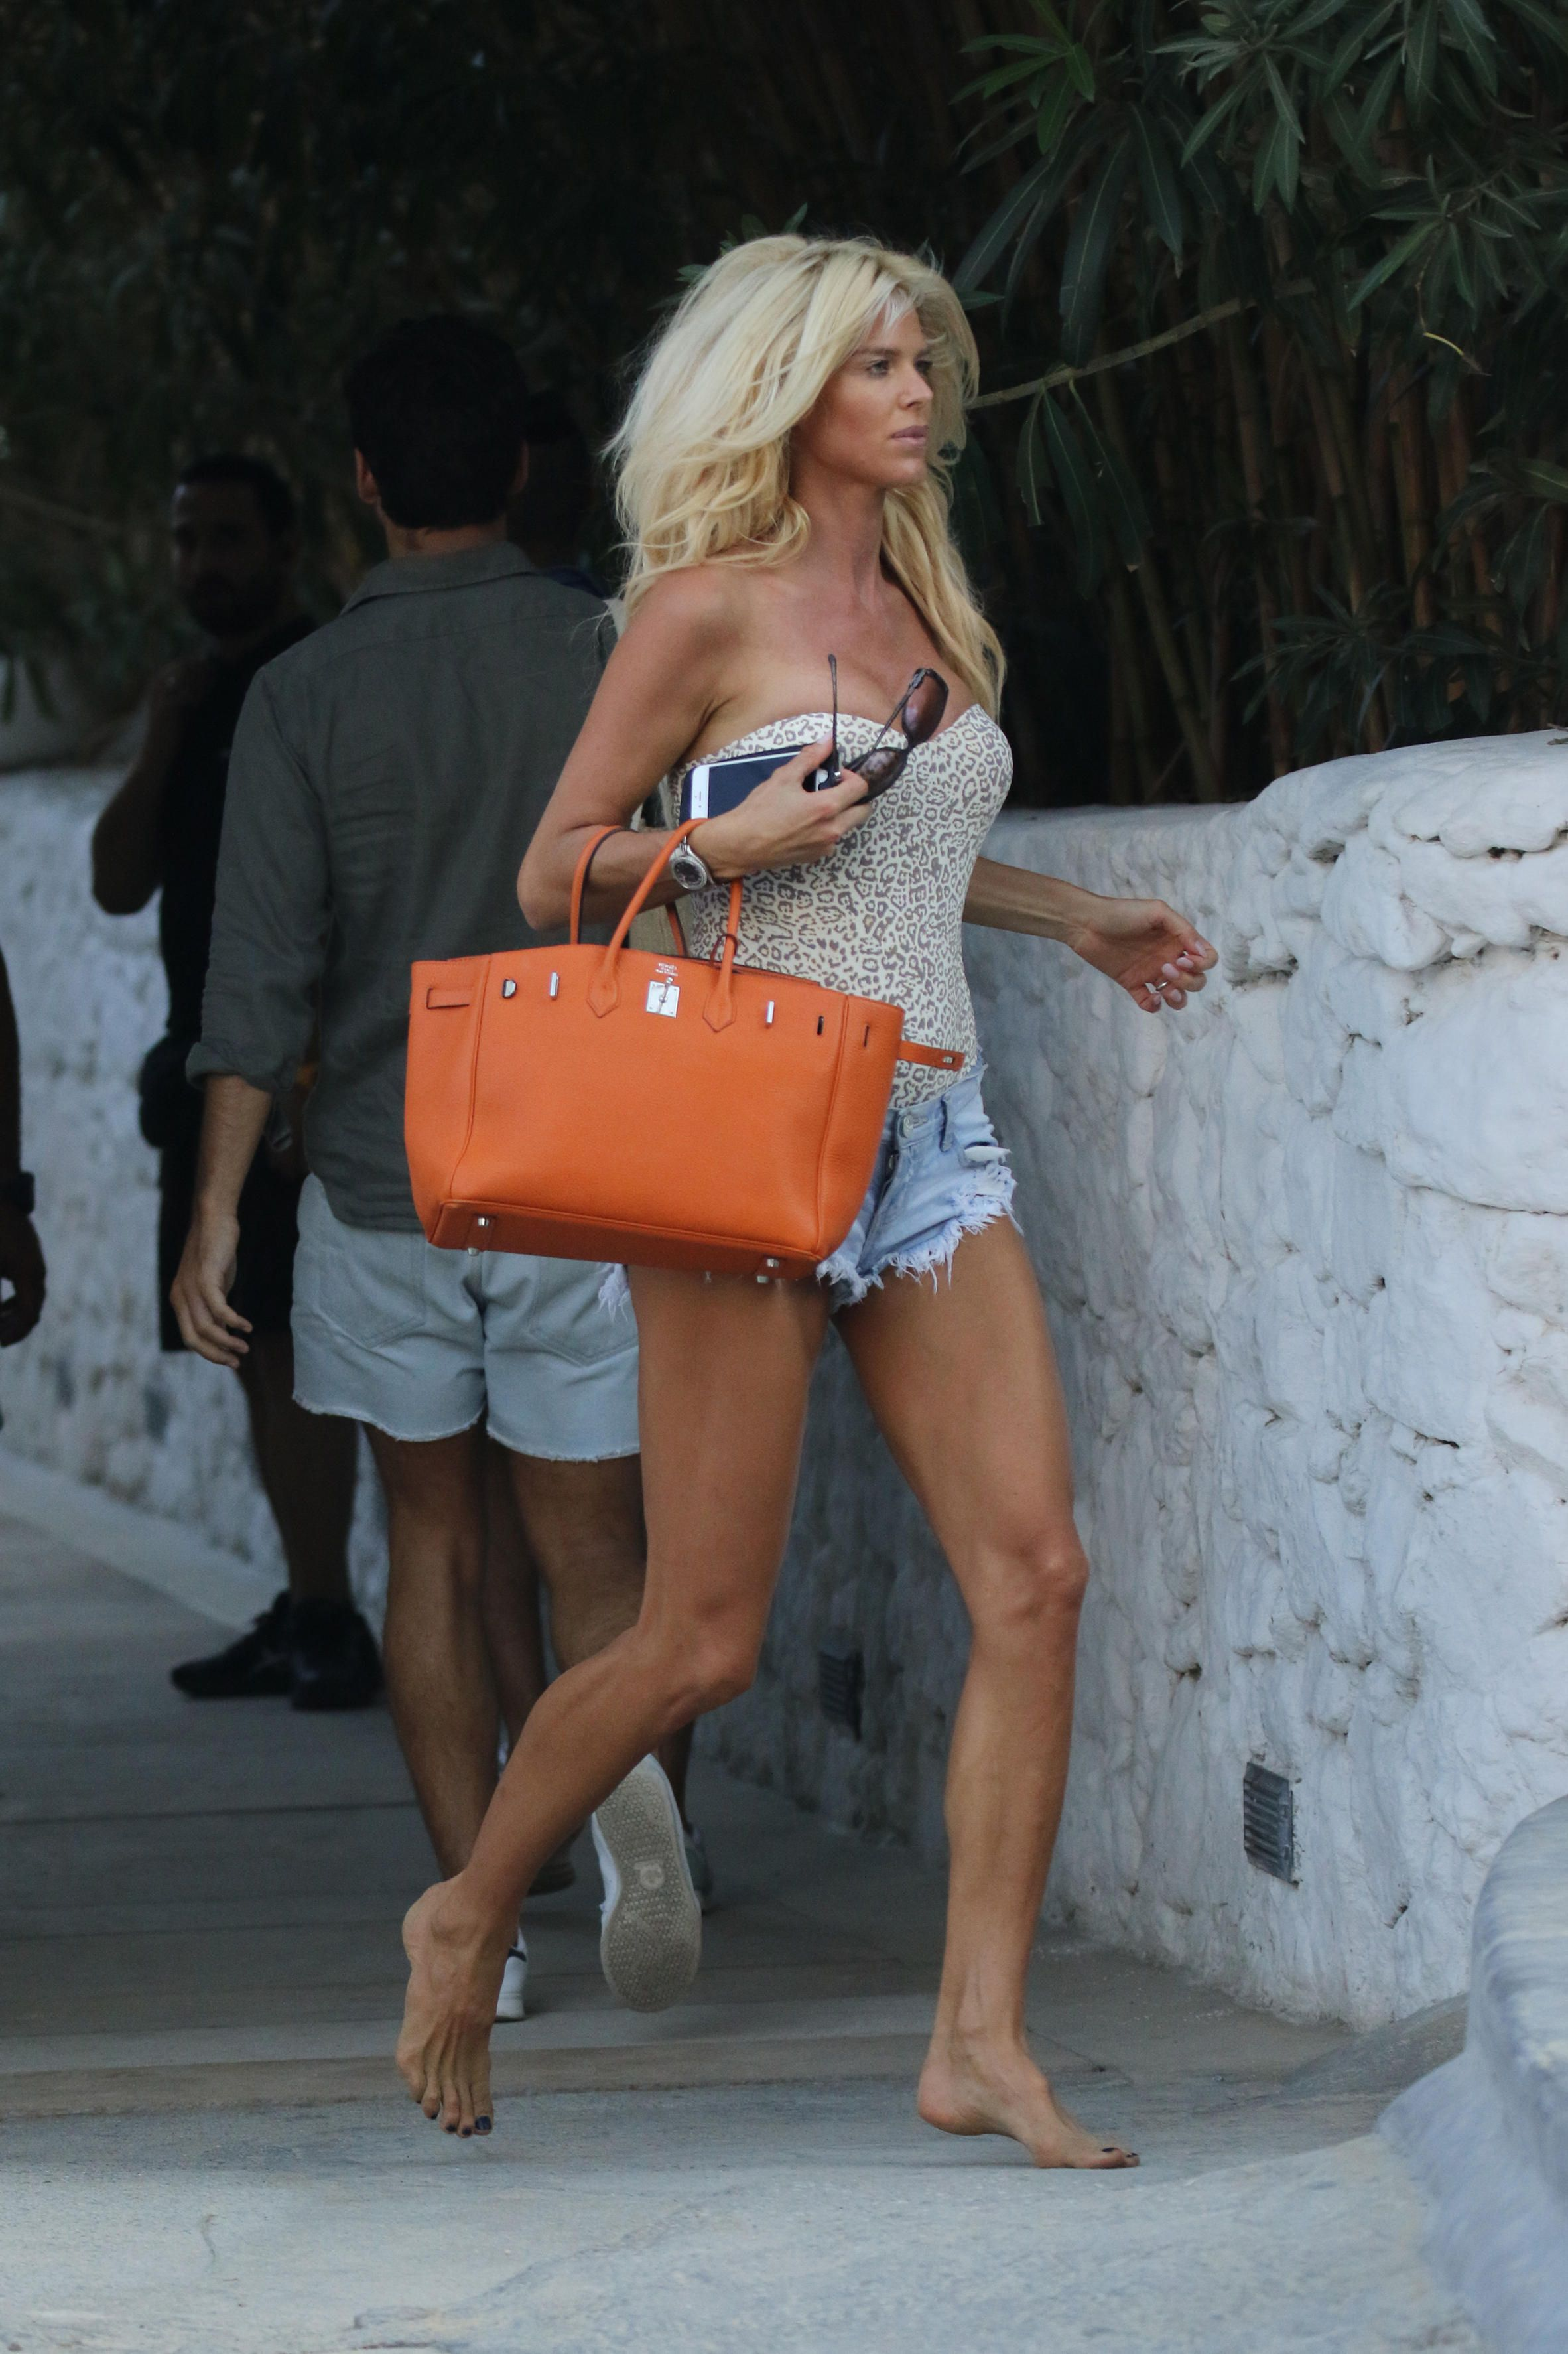Person: (348, 216, 1230, 2211), (173, 334, 785, 1984), (76, 443, 403, 1754)
